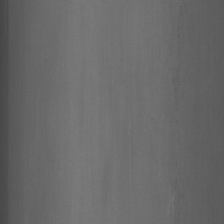silk_spot: (162, 158, 187, 222)
